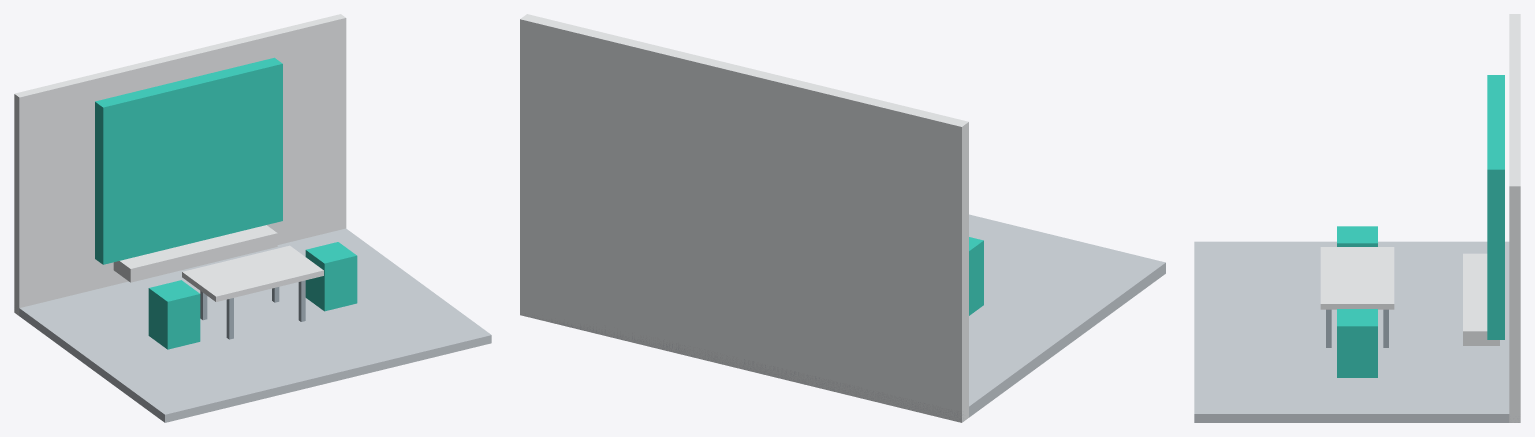
3 renders of one model, left to right at view 1: azimuth 30°, elevation 25°; view 2: azimuth 150°, elevation 25°; view 3: azimuth 270°, elevation 25°, orthographic. The views are drawn at different scales.
Visible parts, largest first — view 1: Exhibition Booth Concept; view 2: Exhibition Booth Concept; view 3: Exhibition Booth Concept.
Part boxes in pixels (left/top/right/bottom): Exhibition Booth Concept: left=14, top=14, right=491, bottom=422; Exhibition Booth Concept: left=520, top=14, right=1165, bottom=422; Exhibition Booth Concept: left=1194, top=14, right=1520, bottom=422.
Size of the model in its own units: 5 by 3.2 by 4.
